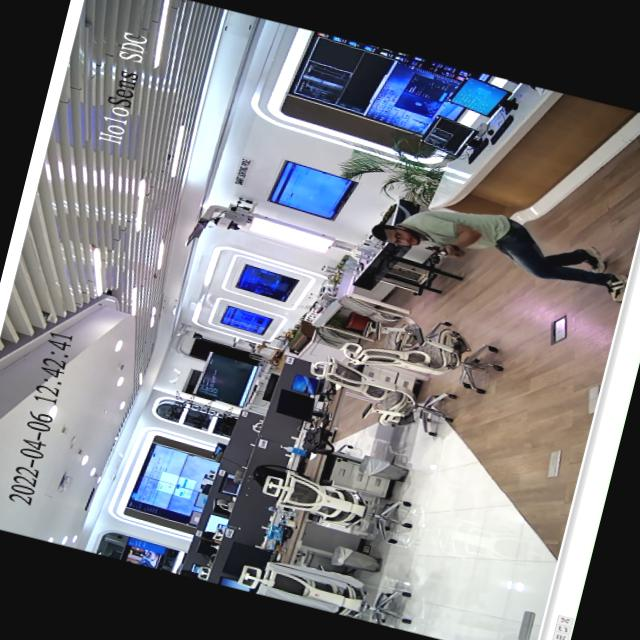long weapon: (424, 237, 464, 259)
